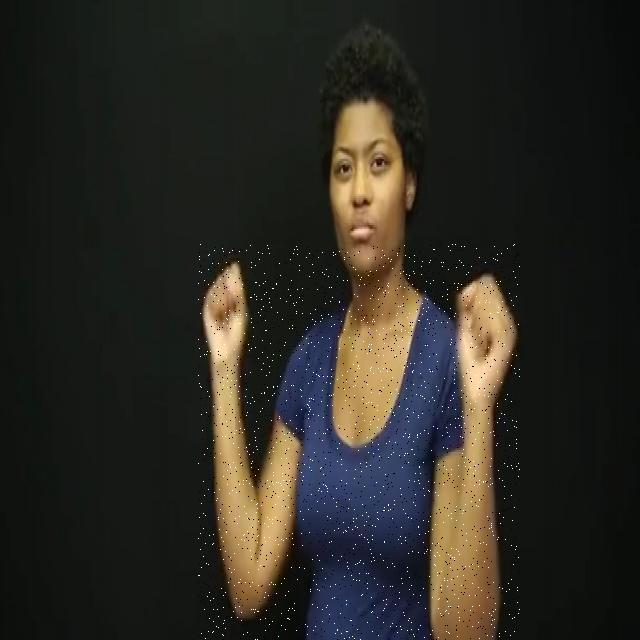cold: (198, 244, 520, 640)
